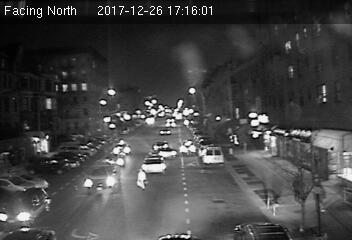car: (2, 186, 56, 228), (141, 154, 165, 175), (158, 144, 177, 160), (105, 153, 126, 167), (112, 139, 131, 154), (179, 141, 196, 155)
truck: (83, 161, 122, 192), (201, 146, 224, 166)
